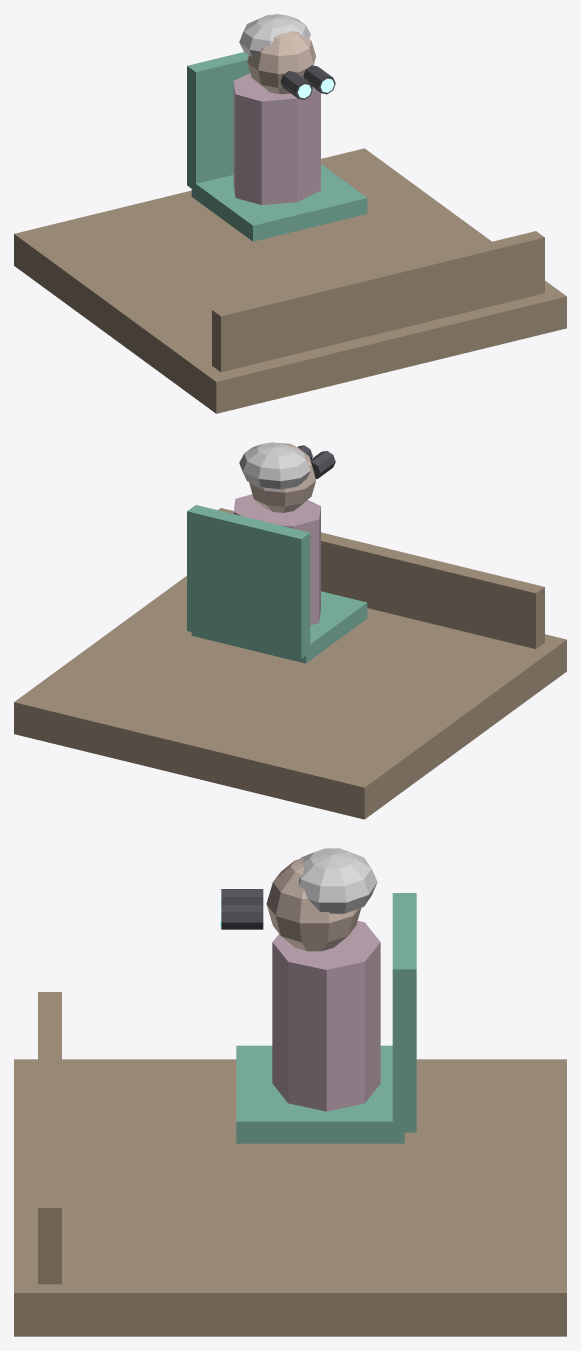
Rendered from human_nosy_neighbor.glb.
3 renders of one model, top to bottom at view 1: azimuth 30°, elevation 25°; view 2: azimuth 150°, elevation 25°; view 3: azimuth 270°, elevation 25°, orthographic. The views are drawn at different scales.
Parts seen in each view (by area): view 1: human_nosy_neighborMesh, TurretMesh, BinocularsMesh; view 2: human_nosy_neighborMesh, TurretMesh, BinocularsMesh; view 3: human_nosy_neighborMesh, TurretMesh, BinocularsMesh.
Boxes of the visible parts, x1,y1,x2,y2 form: human_nosy_neighborMesh: [14, 148, 566, 413]; TurretMesh: [187, 14, 367, 241]; BinocularsMesh: [280, 65, 335, 99]; human_nosy_neighborMesh: [14, 508, 566, 819]; TurretMesh: [187, 442, 367, 663]; BinocularsMesh: [298, 445, 335, 478]; human_nosy_neighborMesh: [14, 992, 566, 1336]; TurretMesh: [236, 848, 416, 1143]; BinocularsMesh: [221, 889, 263, 929].
Size of the model in its own units: 1.84 by 1.34 by 1.84.
